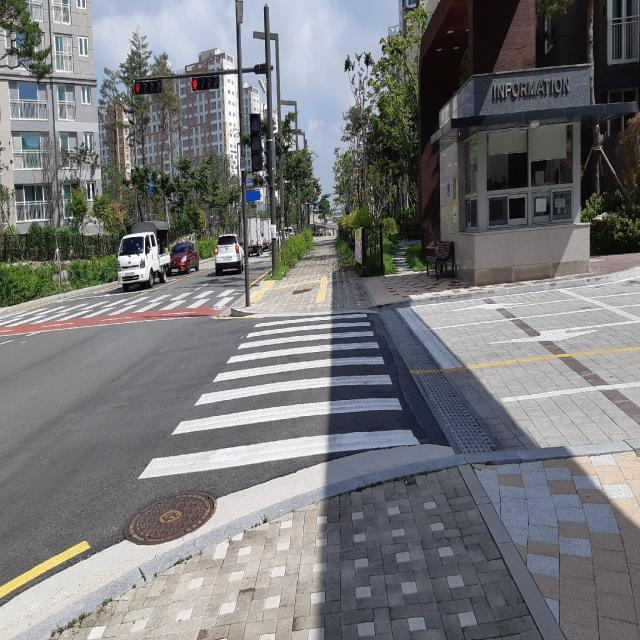횡단보도: (137, 313, 420, 480), (0, 274, 247, 333)
